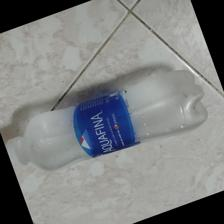Aquafina: (9, 67, 209, 172)
